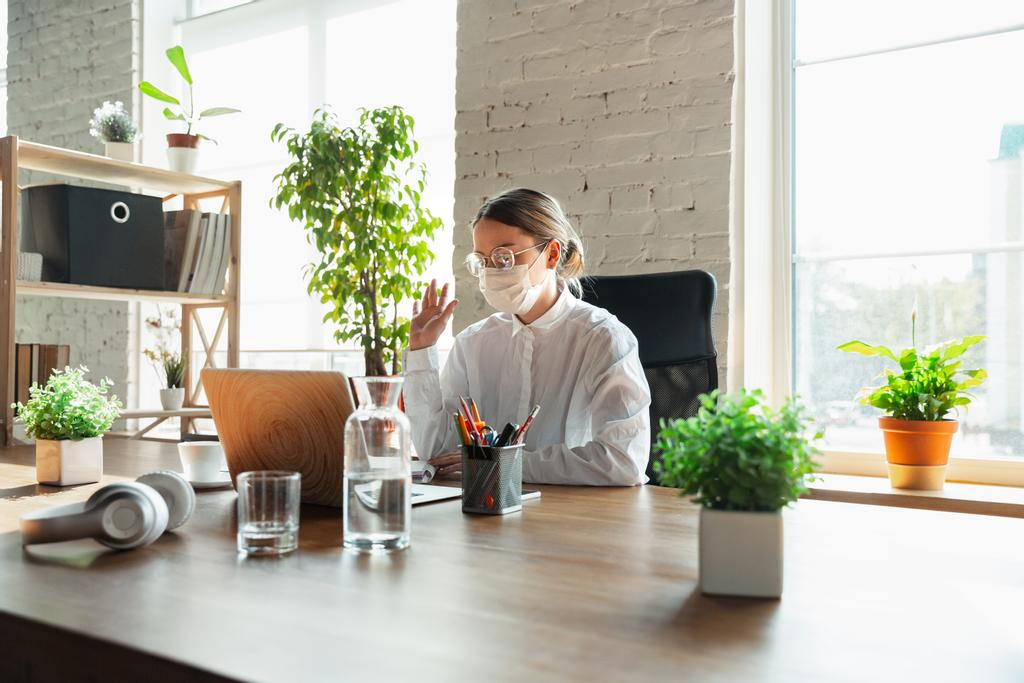with_mask: (461, 211, 556, 323)
